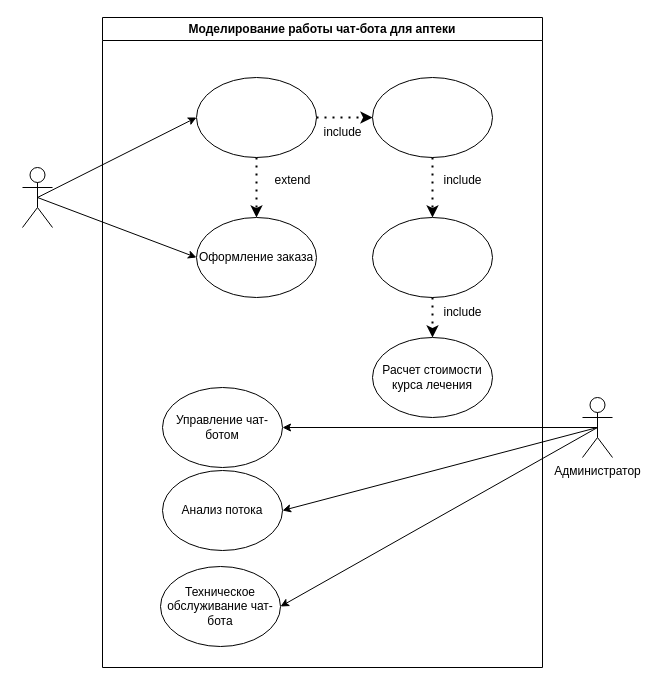
Image size: 658x685. Some labels were removed from this diagram. The centre of each missing label's shape, as x and y in pixels:
"Клиент" belongs at pixel 37 197.
"Подбор аналогов препарата" belongs at pixel 432 257.
"Подбор препарата по симптомам" belongs at pixel 432 117.
"Получение консультации" belongs at pixel 256 117.
